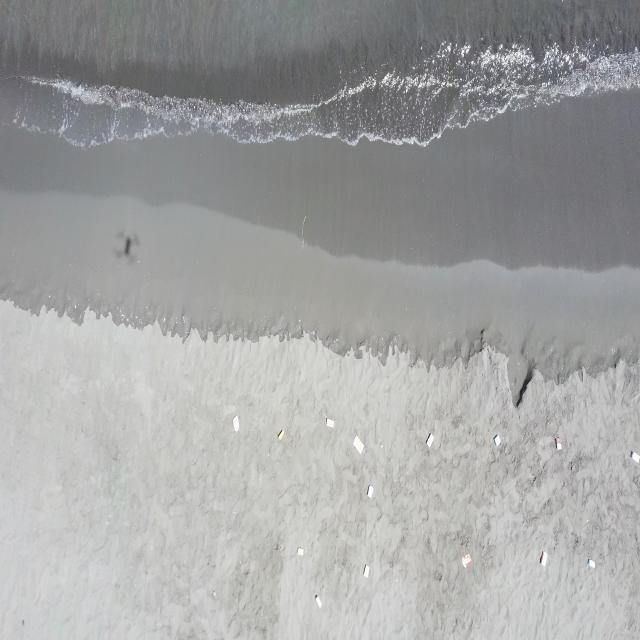Garbage: (353, 435, 363, 452), (539, 550, 547, 566), (462, 553, 471, 567), (492, 433, 500, 446), (232, 415, 238, 431), (631, 451, 639, 463), (555, 435, 562, 448), (426, 432, 432, 447), (324, 417, 333, 427), (276, 428, 283, 440), (315, 593, 320, 607), (587, 559, 595, 567), (367, 484, 372, 496), (363, 564, 368, 576), (296, 547, 303, 555)
